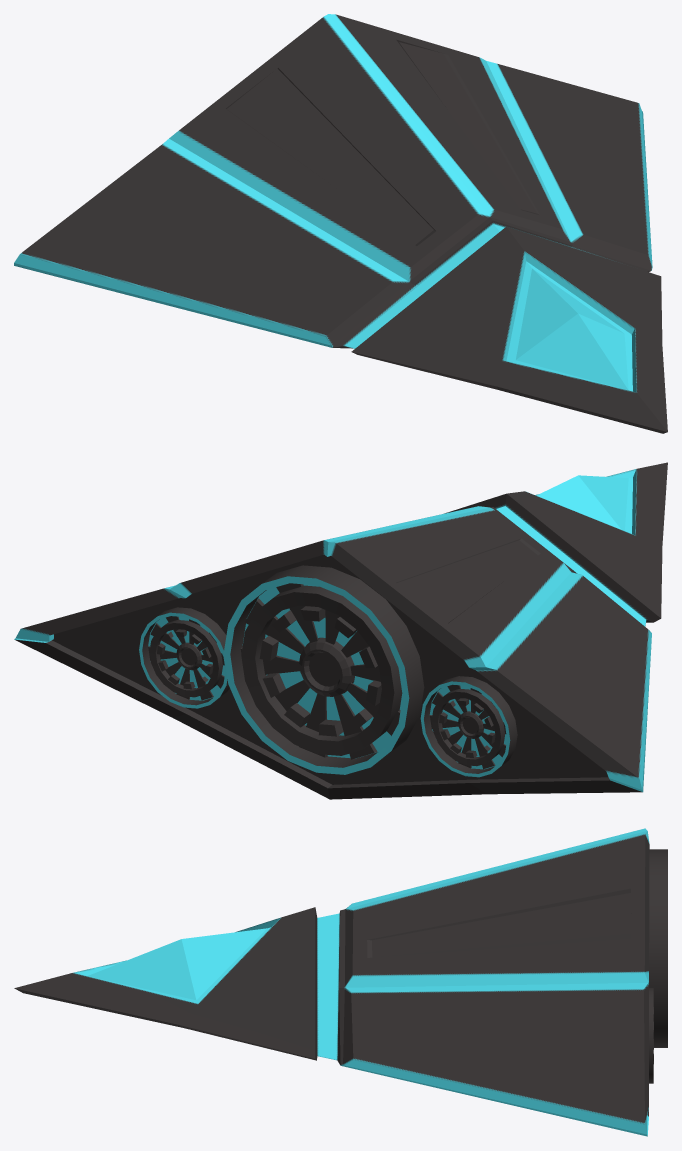
Rendered from FinalShip4.fbx.
The picture shows the model from 3 angles, top to bottom: view 1: azimuth 30°, elevation 25°; view 2: azimuth 150°, elevation 25°; view 3: azimuth 270°, elevation 25°; orthographic projection. The views are drawn at different scales.
Parts seen in each view (by area): view 1: FinalShip; view 2: FinalShip; view 3: FinalShip.
Boxes of the visible parts, <box> form: FinalShip: <box>14,14,667,433</box>; FinalShip: <box>14,462,667,799</box>; FinalShip: <box>14,828,667,1136</box>.
Bounding box in the file's own units: 0.0735 × 0.0289 × 0.071.
